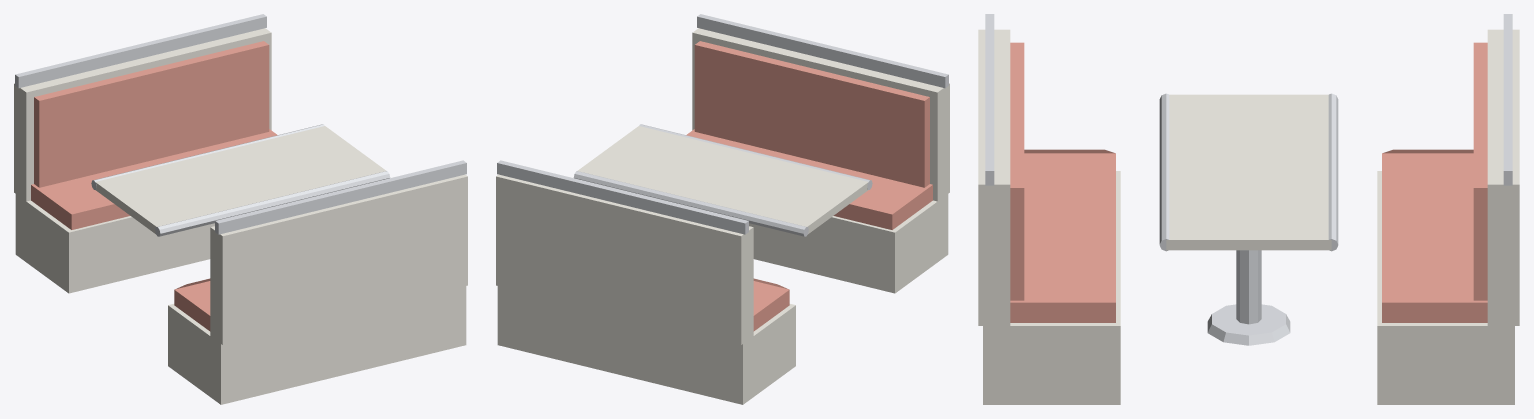
File: retro-diner-and-roadside-motel-booth-seat-pair-and-tab-20281117__37326.glb
3 views of the same model, side by side, from view 1: azimuth 30°, elevation 25°; view 2: azimuth 150°, elevation 25°; view 3: azimuth 270°, elevation 25° (orthographic). The views are drawn at different scales.
Parts seen in each view (by area): view 1: booth-seat-pair-and-table-cream, booth-seat-pair-and-table-coral, booth-seat-pair-and-table-chrome; view 2: booth-seat-pair-and-table-cream, booth-seat-pair-and-table-coral, booth-seat-pair-and-table-chrome; view 3: booth-seat-pair-and-table-cream, booth-seat-pair-and-table-coral, booth-seat-pair-and-table-chrome.
Boxes of the visible parts, x1,y1,x2,y2 form: booth-seat-pair-and-table-cream: (14,28,467,404); booth-seat-pair-and-table-coral: (31,41,277,331); booth-seat-pair-and-table-chrome: (15,14,466,236); booth-seat-pair-and-table-cream: (496,28,949,404); booth-seat-pair-and-table-coral: (686,41,932,331); booth-seat-pair-and-table-chrome: (497,14,948,236); booth-seat-pair-and-table-cream: (978,29,1519,404); booth-seat-pair-and-table-coral: (1010,42,1487,322); booth-seat-pair-and-table-chrome: (985,14,1512,345).
Size of the model in its own units: 1.62 by 1.13 by 2.36.
